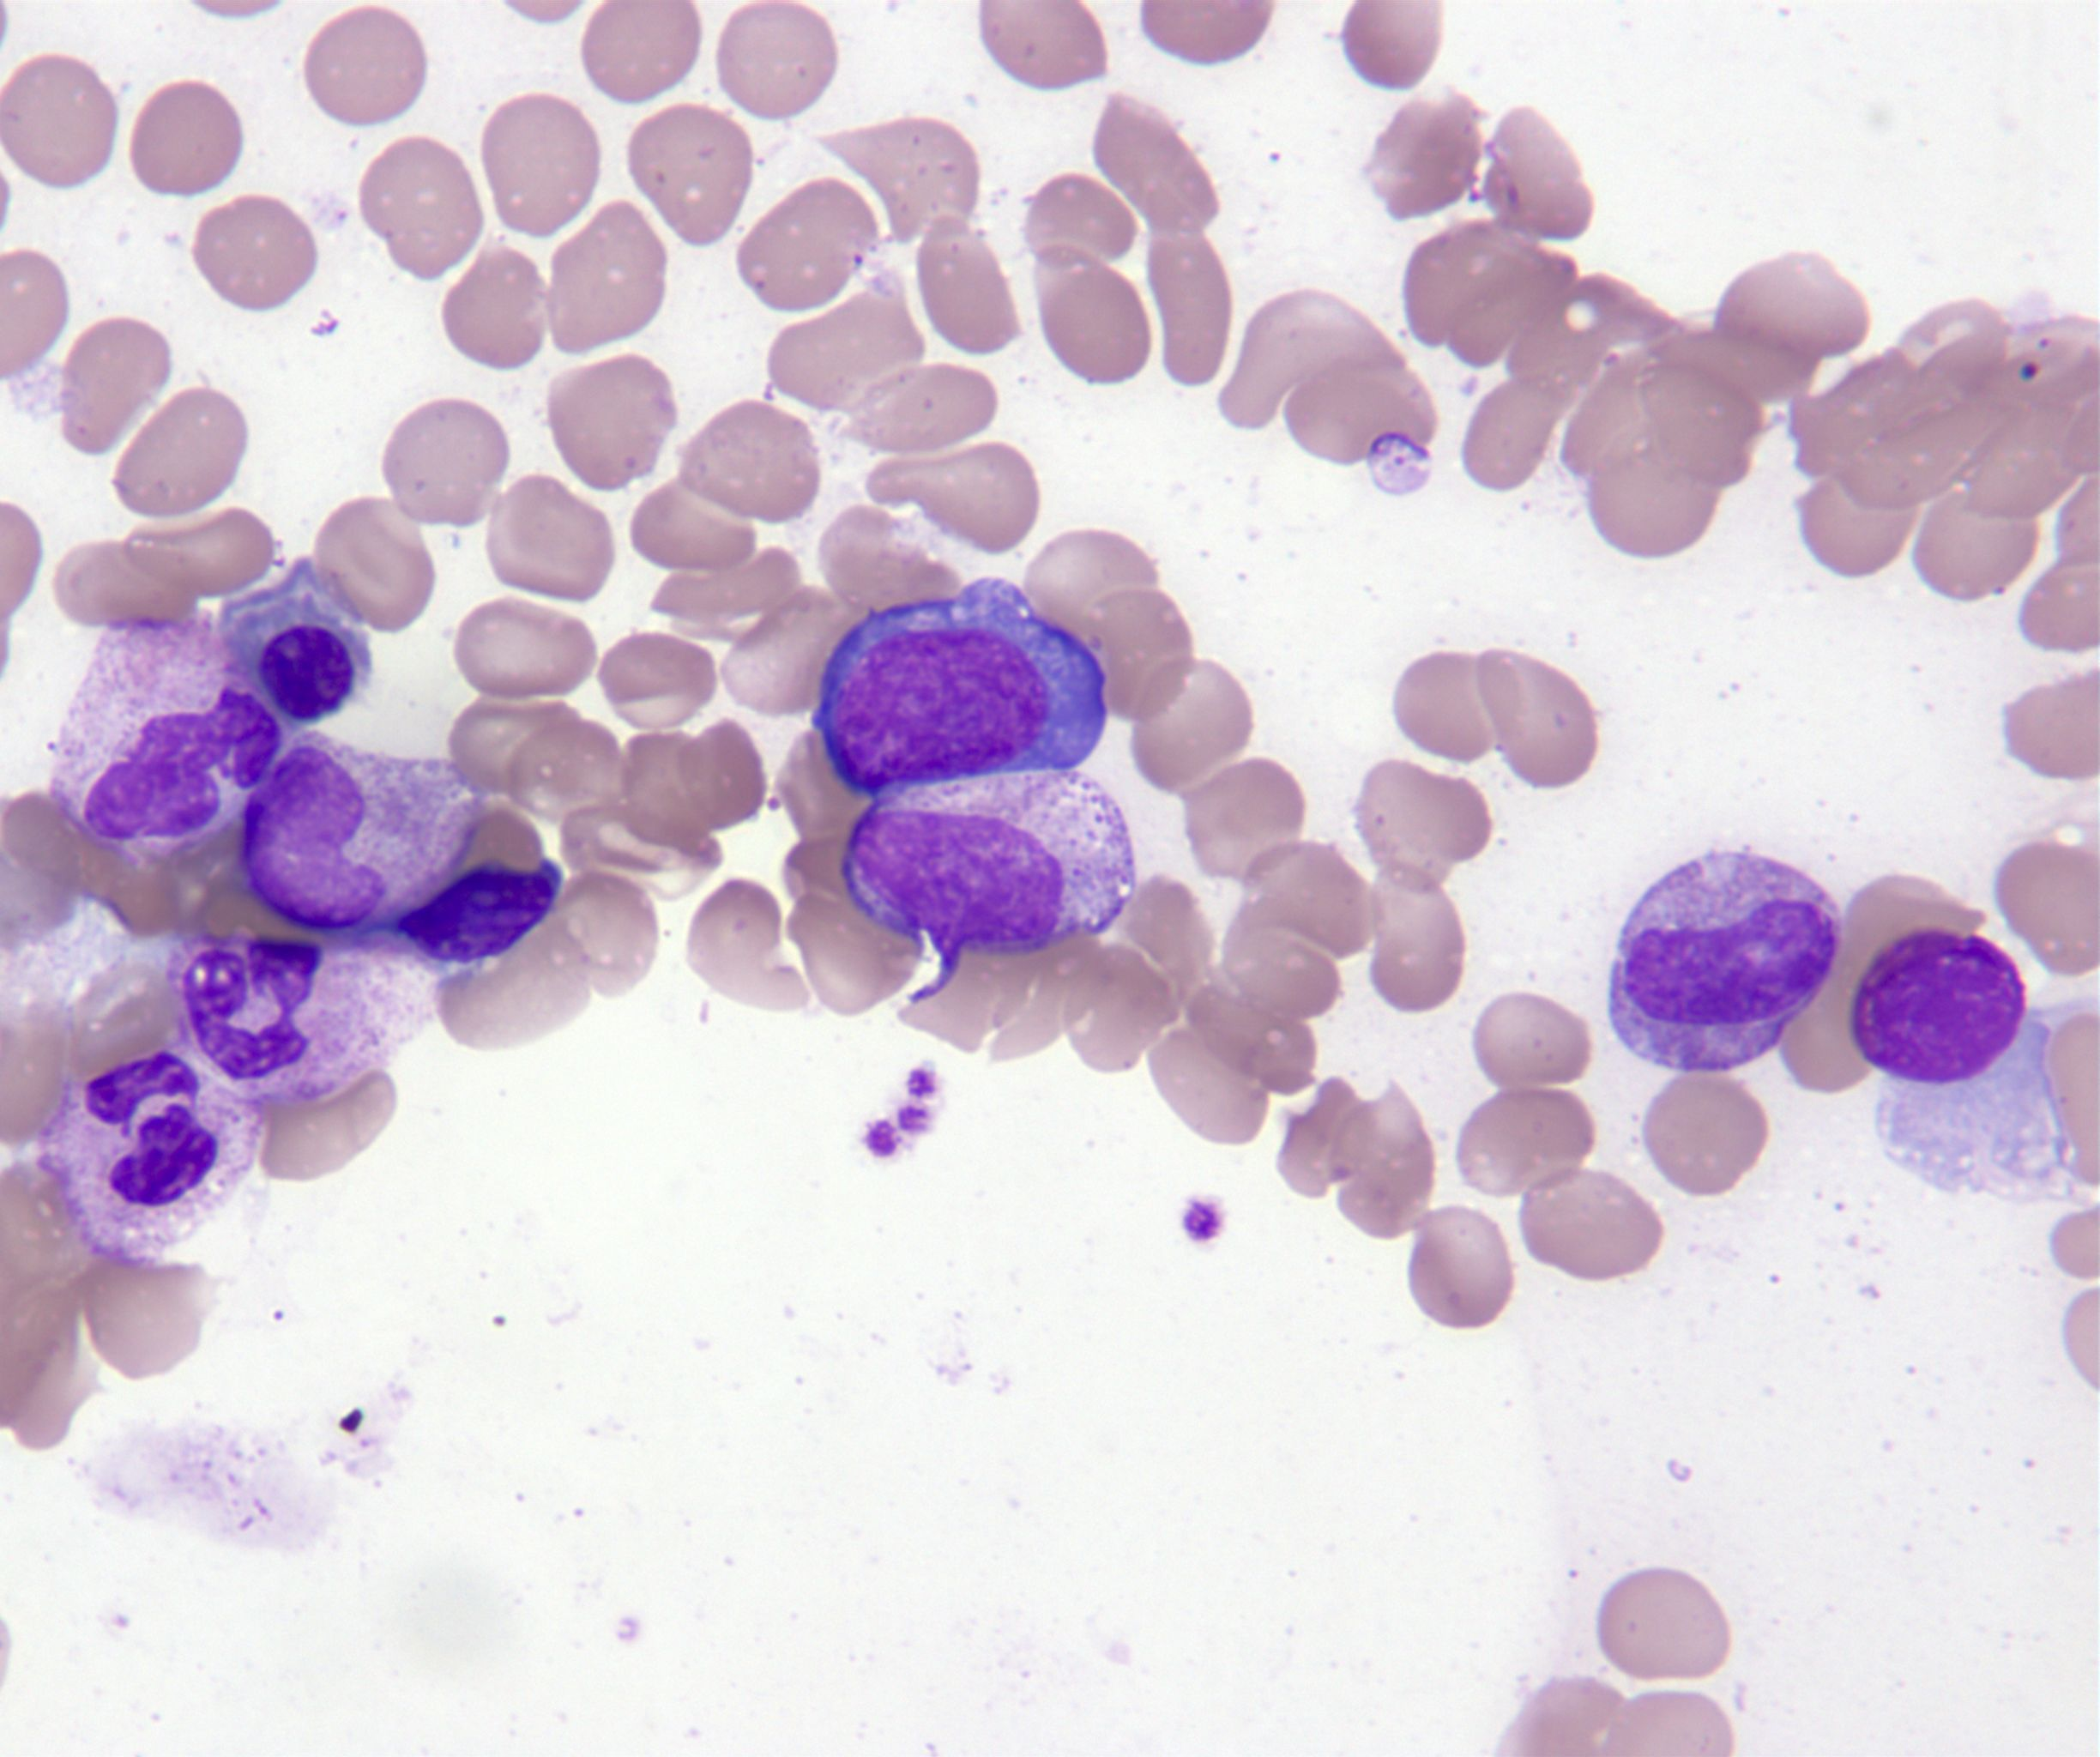22: (809, 576, 1106, 796)
24: (220, 557, 372, 728)
3: (842, 766, 1135, 1000), (1610, 853, 1838, 1073)
32: (382, 858, 560, 965)
4: (241, 733, 480, 932)
5: (51, 614, 284, 865), (166, 933, 443, 1108)
6: (38, 1052, 260, 1268)
x: (1851, 928, 2065, 1202)
